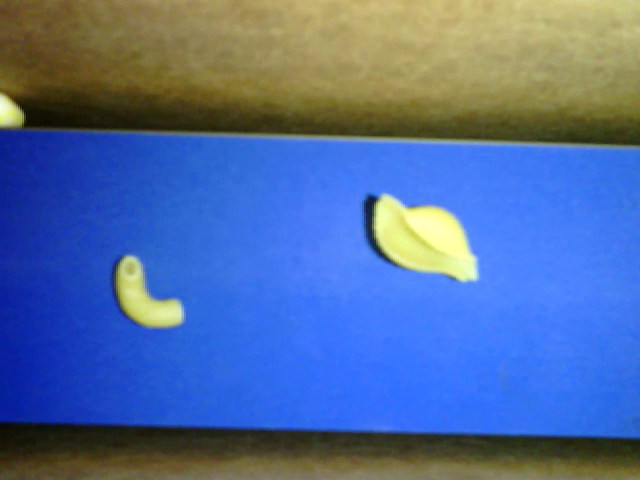elbow: (115, 254, 185, 328)
shell: (372, 192, 478, 282)
